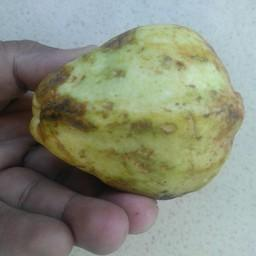Bad_guava: (30, 21, 246, 202)
